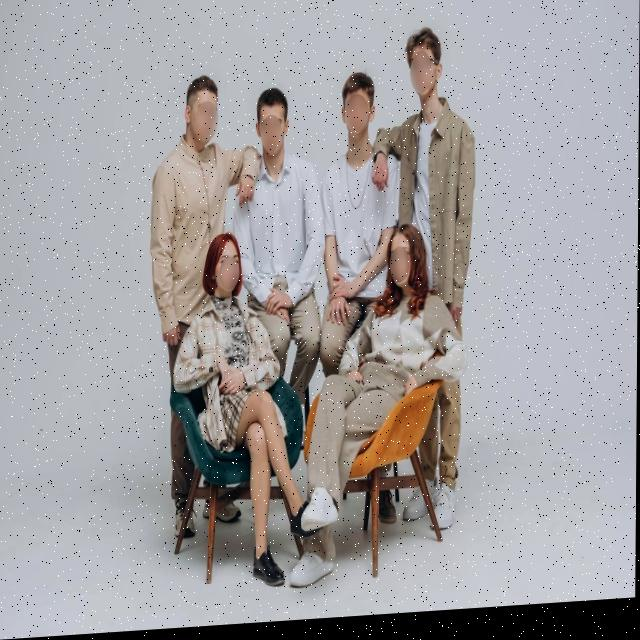Person: (294, 231, 467, 613), (169, 228, 304, 590), (151, 74, 259, 337), (381, 16, 493, 256), (315, 54, 393, 353), (239, 78, 319, 304)
